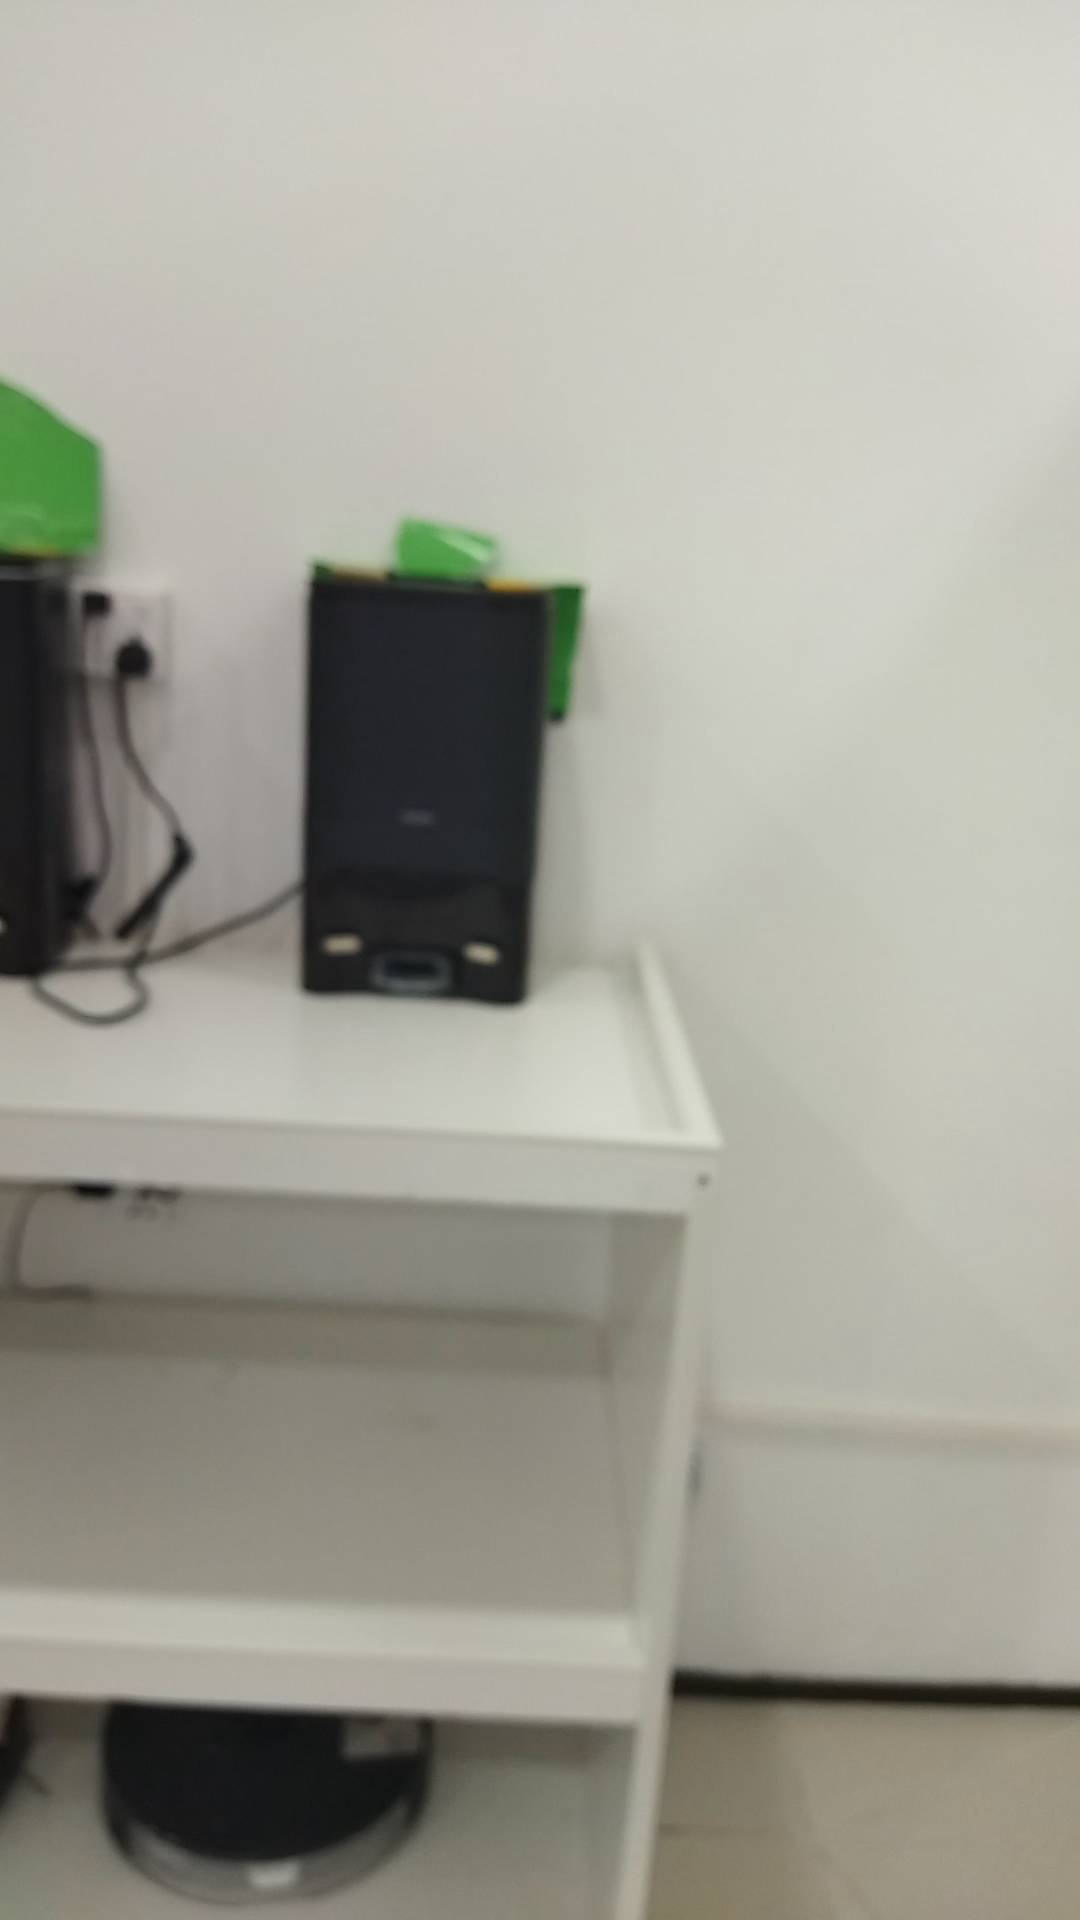dust collecting barrel: (303, 578, 549, 1009)
